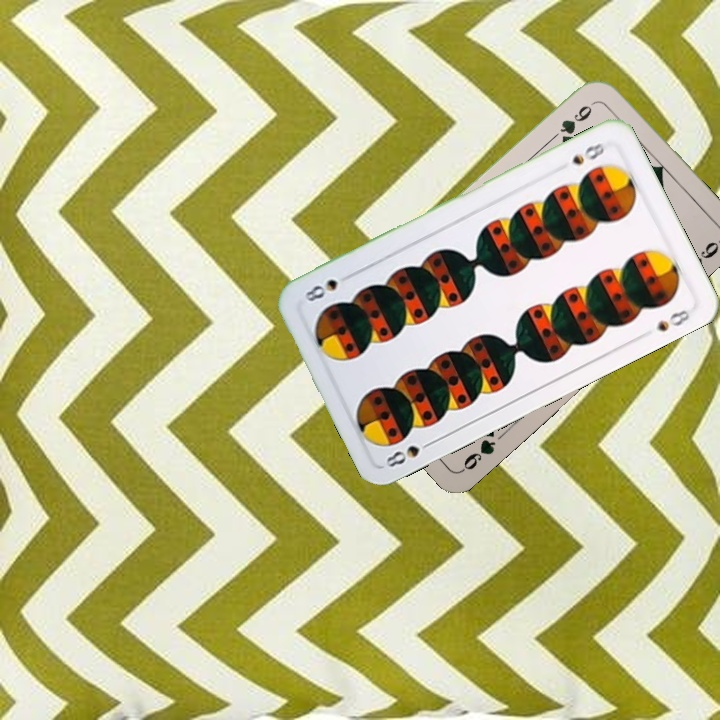G9: (458, 421, 498, 474), (556, 101, 595, 147)
S8: (381, 436, 437, 470), (567, 139, 607, 168)
